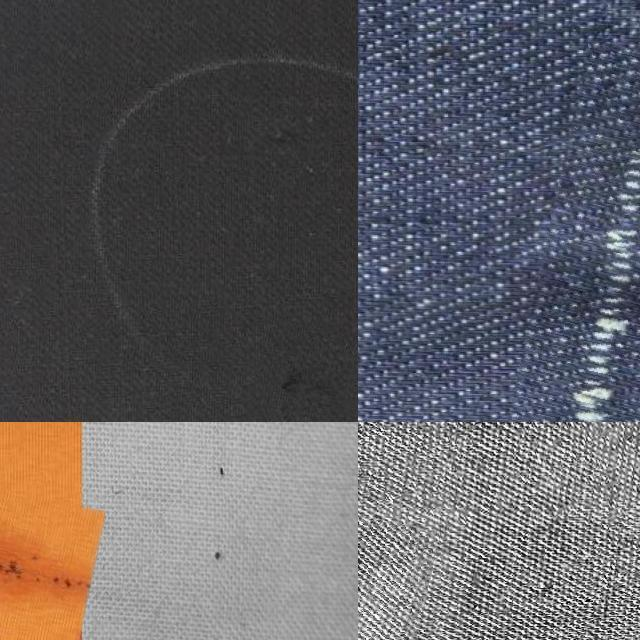Thread_other: (163, 422, 329, 614), (0, 456, 93, 640)
stains: (519, 43, 640, 422), (250, 320, 358, 422)
